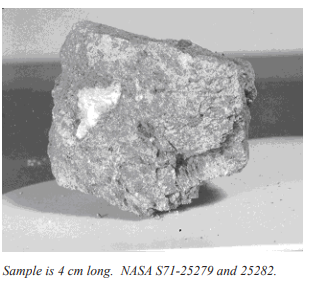Breccia: (49, 19, 259, 222)
